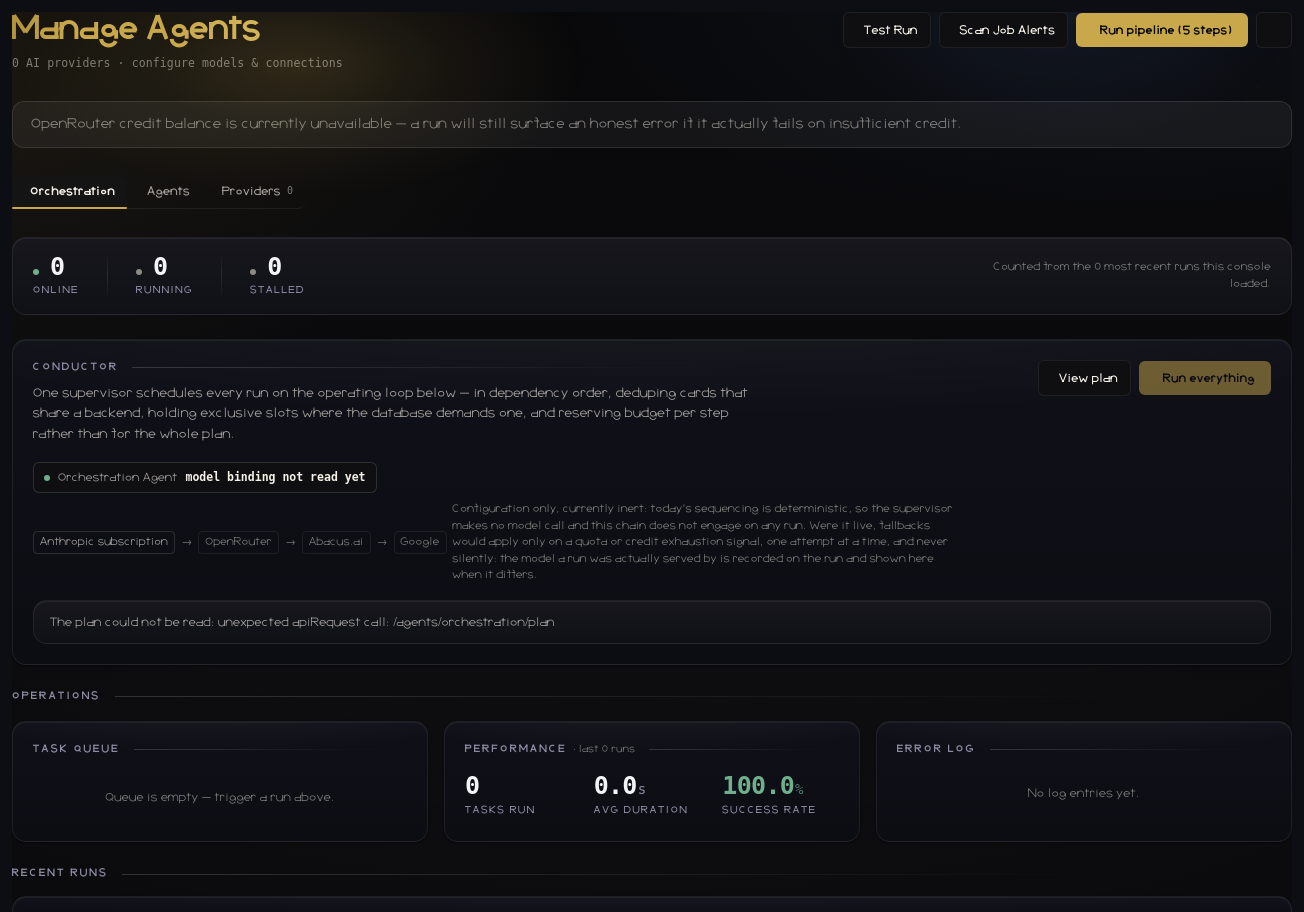
Test: NF-final-closure-002: honest no-résumé refusal surfacing (agents console) › regression guard: a REAL pipeline completion (approval required) still renders the original green success notice
The image size is (1304, 912).
What coordinates should you click on to do the following:
click the button with test id "run-pipeline-btn"
I would click on:
 (1162, 30)
Its box is [1076,13,1248,47].
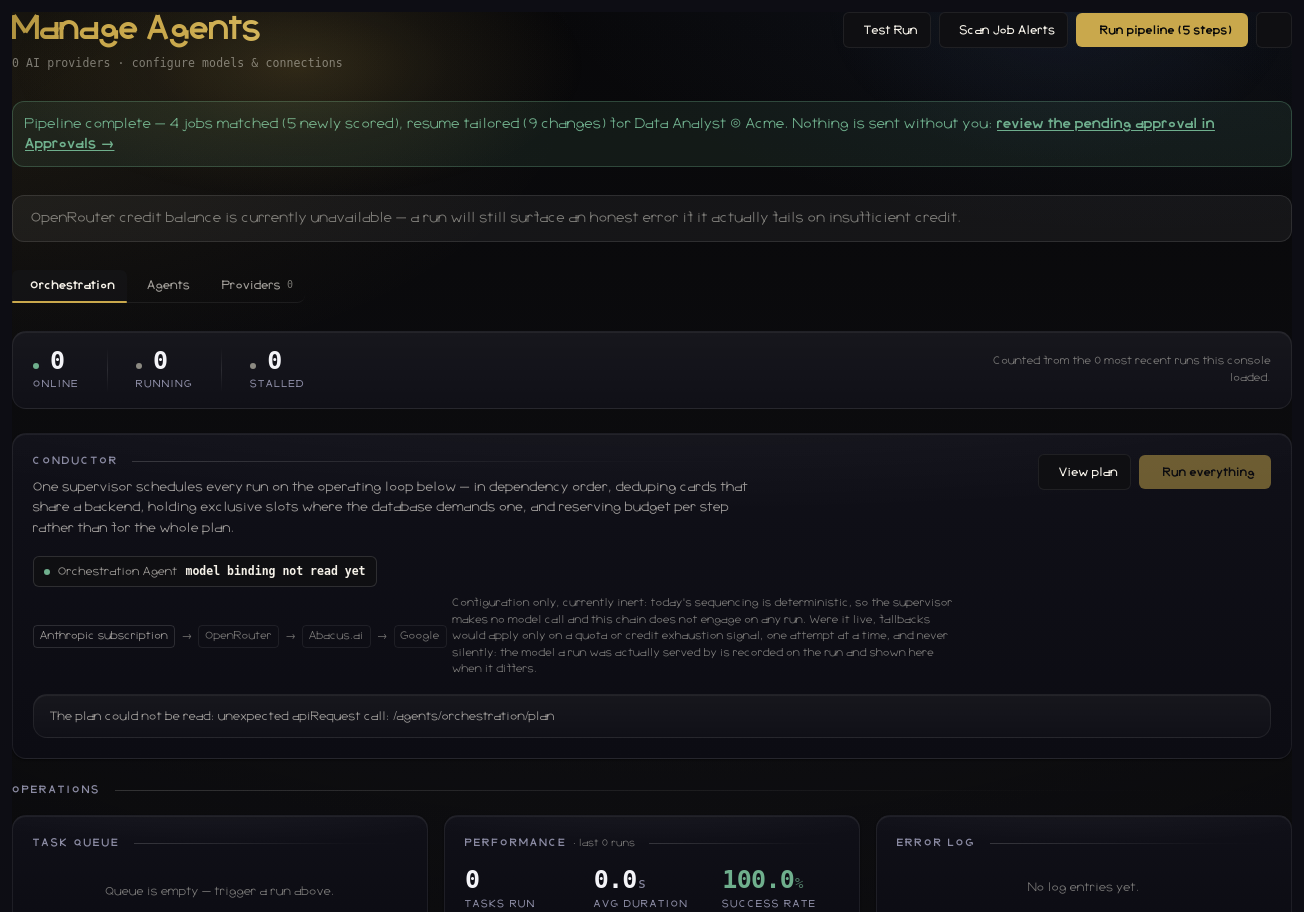
Expected: the message with test id "agents-notice" shows "4 jobs matched", [25,117,993,131]
